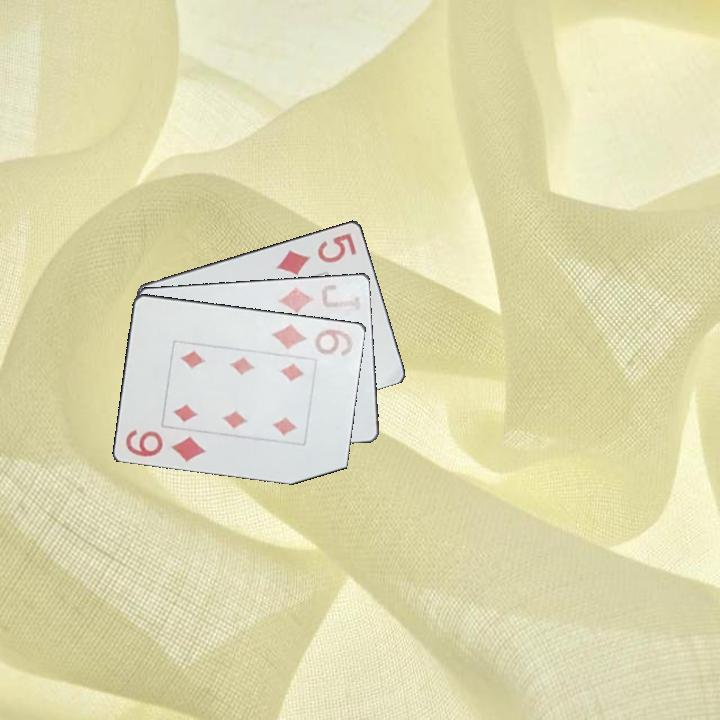5d: (273, 229, 360, 279)
6d: (268, 320, 358, 359), (121, 426, 209, 464)
Jd: (275, 280, 365, 315)
